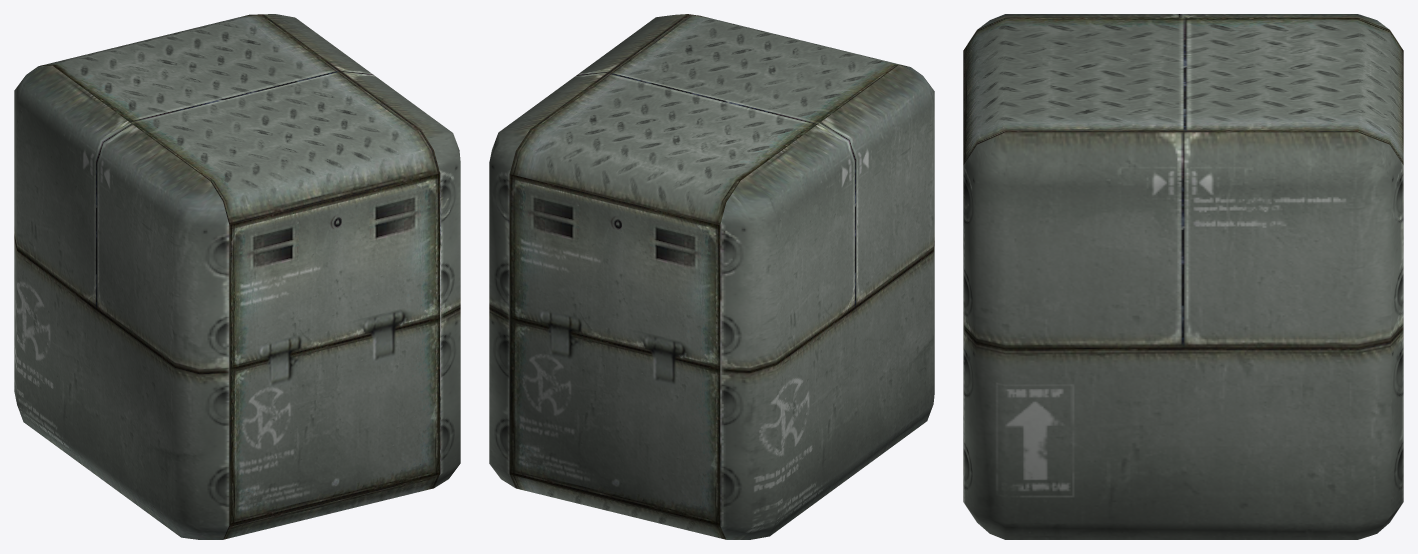
The model's file is Model_Crate_03.fbx.
The picture shows the model from 3 angles, left to right: view 1: azimuth 30°, elevation 25°; view 2: azimuth 150°, elevation 25°; view 3: azimuth 270°, elevation 25°; orthographic projection. The views are drawn at different scales.
Parts seen in each view (by area): view 1: Crate_03_LOD0; view 2: Crate_03_LOD0; view 3: Crate_03_LOD0.
Part boxes in pixels (x1,y1,x2,y2): Crate_03_LOD0: [14, 14, 460, 539]; Crate_03_LOD0: [489, 14, 934, 539]; Crate_03_LOD0: [963, 14, 1403, 539].
Size of what is drawn, in the model's own units: 100 by 120 by 120.
